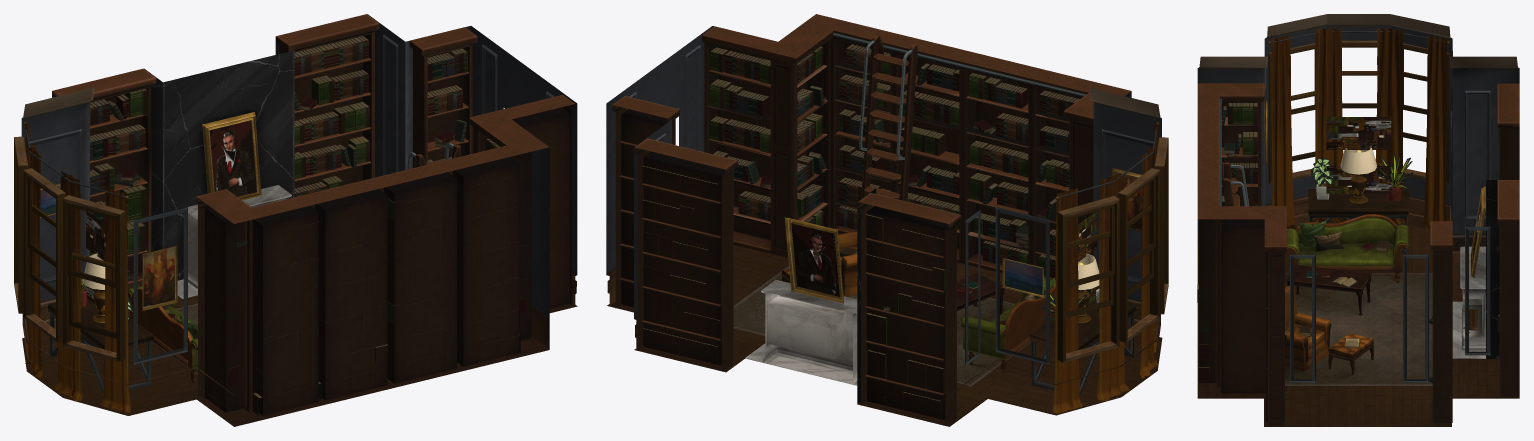
The model's file is library.obj.
3 renders of one model, left to right at view 1: azimuth 30°, elevation 25°; view 2: azimuth 150°, elevation 25°; view 3: azimuth 270°, elevation 25°, orthographic. The views are drawn at different scales.
Visible parts, largest first — view 1: library_props_13802, library_walls_1248, library_props_1432, library_carpet_161, library_props_8; view 2: library_props_13802, library_walls_1248, library_props_1432, library_carpet_161, library_props_8, library_props_108; view 3: library_props_13802, library_walls_1248, library_props_1432, library_carpet_161, library_props_8, library_plants_668, library_props_108.
Boxes of the visible parts, x1,y1,x2,y2 form: library_props_13802: [23, 14, 575, 415]; library_walls_1248: [14, 14, 577, 426]; library_props_1432: [25, 120, 130, 413]; library_carpet_161: [152, 120, 256, 375]; library_props_8: [86, 211, 105, 303]; library_props_13802: [612, 14, 1159, 425]; library_walls_1248: [606, 26, 1168, 426]; library_props_1432: [1052, 121, 1158, 413]; library_carpet_161: [733, 223, 1031, 386]; library_props_8: [1078, 211, 1097, 303]; library_props_108: [1078, 253, 1099, 290]; library_props_13802: [1197, 31, 1519, 425]; library_walls_1248: [1197, 14, 1519, 426]; library_props_1432: [1271, 28, 1447, 229]; library_carpet_161: [1285, 204, 1481, 385]; library_props_8: [1326, 117, 1391, 193]; library_plants_668: [1310, 154, 1412, 188]; library_props_108: [1340, 148, 1376, 174].
Bounding box in the file's own units: 7.36 × 3.43 × 4.81.
